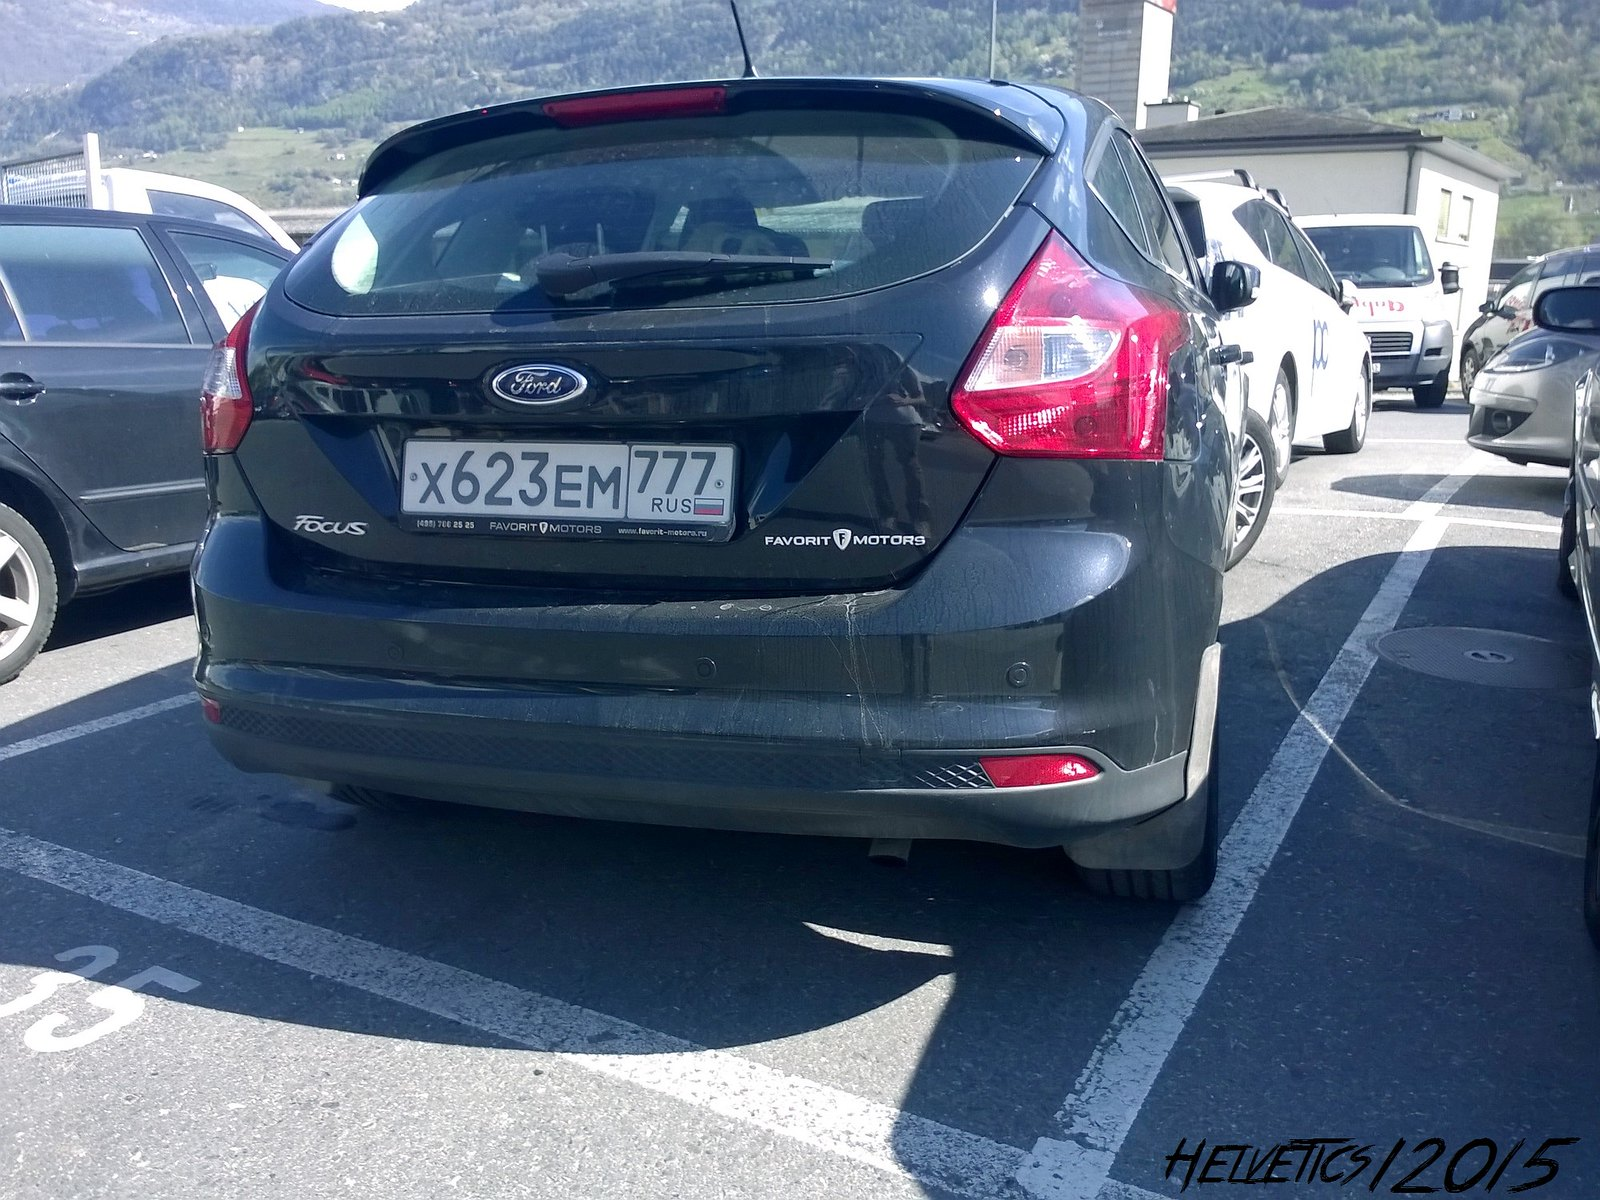car: (184, 296, 1222, 840)
plate: (398, 438, 737, 525)
